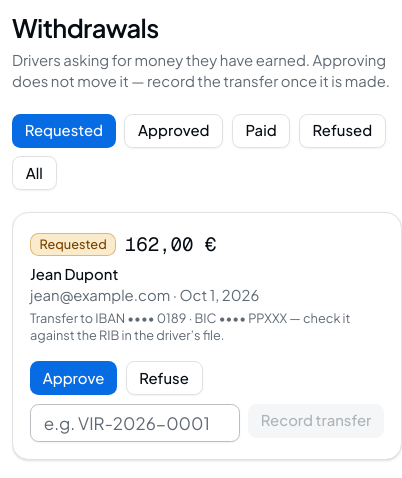
Scenario: WithdrawalQueue — a request that moved on meanwhile › reads the queue again for a request settled meanwhile
Click the button "Refuse" at (164, 378), box [126,362,202,396]
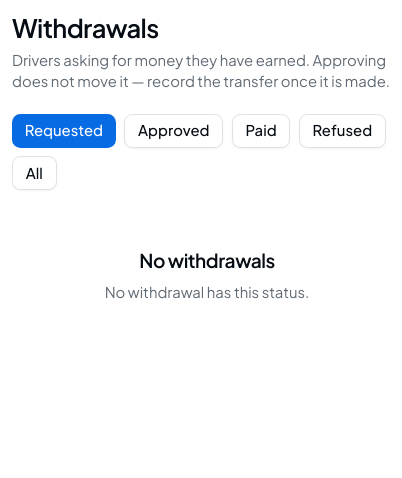
expect the heading "No withdrawals" is shown: met, box [139,246,275,276]
